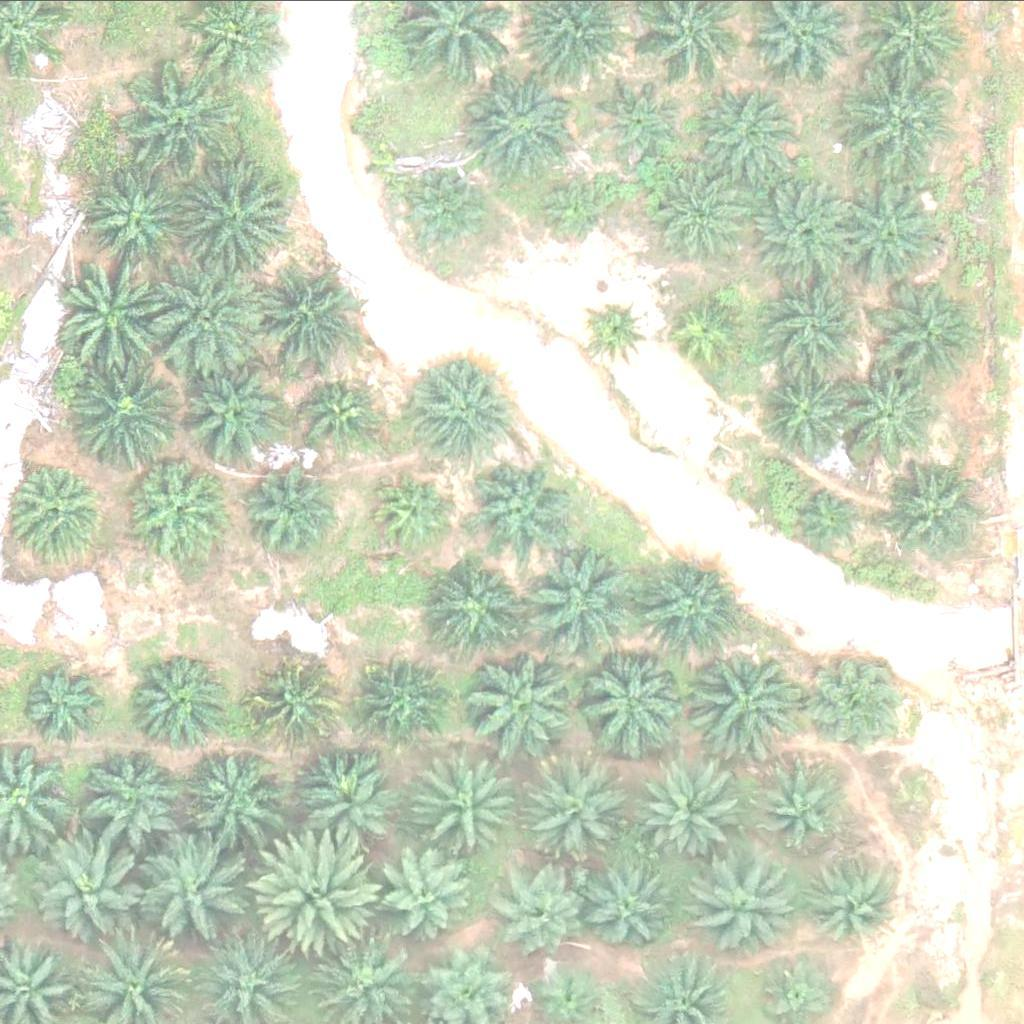Kelapa_Sawit: (254, 825, 380, 950), (178, 163, 292, 276), (132, 835, 246, 948), (469, 72, 582, 185), (747, 174, 860, 287), (835, 177, 948, 290), (874, 275, 987, 388), (520, 546, 633, 659), (464, 645, 577, 758), (575, 641, 688, 754), (74, 356, 187, 469), (38, 828, 151, 941), (844, 70, 958, 182), (120, 64, 233, 176), (153, 256, 266, 368), (687, 643, 800, 755), (57, 257, 170, 369), (183, 368, 284, 468), (703, 85, 804, 185), (769, 277, 870, 377), (760, 362, 861, 462), (641, 560, 742, 660), (886, 460, 987, 560), (125, 648, 226, 748), (814, 652, 915, 752), (184, 741, 285, 841), (421, 755, 522, 855), (533, 760, 634, 860), (641, 764, 742, 864), (84, 169, 185, 269), (258, 270, 358, 370), (418, 360, 518, 460), (651, 162, 751, 262), (840, 367, 940, 467), (126, 457, 226, 557), (471, 454, 571, 554), (91, 746, 191, 846), (291, 756, 391, 856), (693, 853, 793, 953), (11, 459, 111, 559), (597, 74, 685, 162), (405, 169, 493, 257), (243, 472, 331, 560), (438, 561, 526, 649), (249, 661, 337, 749), (501, 868, 589, 956), (18, 662, 106, 750), (588, 866, 677, 953), (357, 659, 445, 746), (759, 759, 847, 846), (808, 857, 896, 944), (381, 851, 469, 938), (374, 473, 450, 548), (300, 378, 375, 453), (536, 170, 611, 245), (674, 294, 749, 369), (798, 479, 873, 554), (587, 297, 650, 360)
